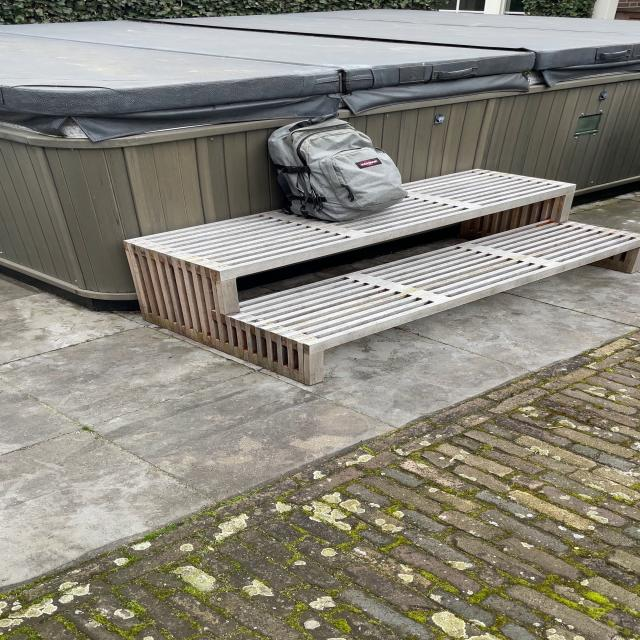backpack: (259, 113, 412, 223)
